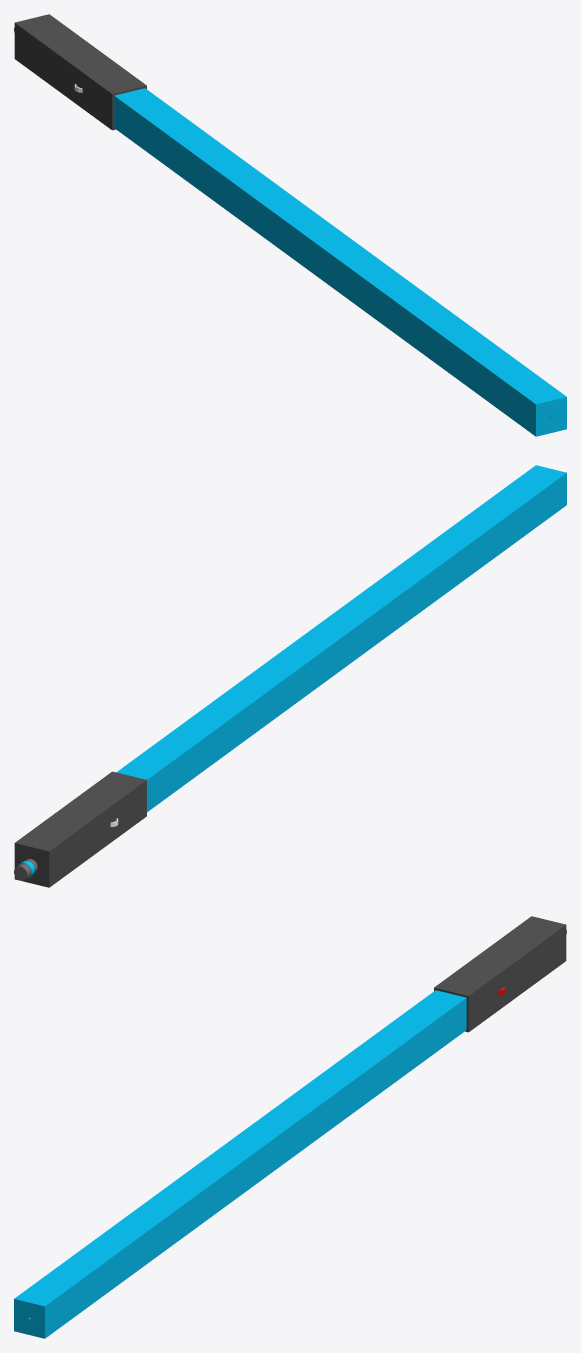
Rendered from cube-community-v1.glb.
The picture shows the model from 3 angles, top to bottom: view 1: azimuth 30°, elevation 25°; view 2: azimuth 150°, elevation 25°; view 3: azimuth 330°, elevation 25°; orthographic projection.
Parts seen in each view (by area): view 1: Right__RightSaberMesh__Glow_mat_blue__1, Right__RightSaberMesh__leftHandle_mat__0; view 2: Right__RightSaberMesh__Glow_mat_blue__1, Right__RightSaberMesh__leftHandle_mat__0; view 3: Right__RightSaberMesh__Glow_mat_blue__1, Right__RightSaberMesh__leftHandle_mat__0.
Part boxes in pixels (box(x1,y1,x2,y2)): Right__RightSaberMesh__Glow_mat_blue__1: box(114, 88, 566, 436); Right__RightSaberMesh__leftHandle_mat__0: box(14, 14, 146, 130); Right__RightSaberMesh__Glow_mat_blue__1: box(116, 465, 566, 812); Right__RightSaberMesh__leftHandle_mat__0: box(14, 771, 146, 887); Right__RightSaberMesh__Glow_mat_blue__1: box(14, 990, 466, 1338); Right__RightSaberMesh__leftHandle_mat__0: box(434, 916, 566, 1032).
Bounding box in the file's own units: 0.056 × 0.0465 × 1.23.
